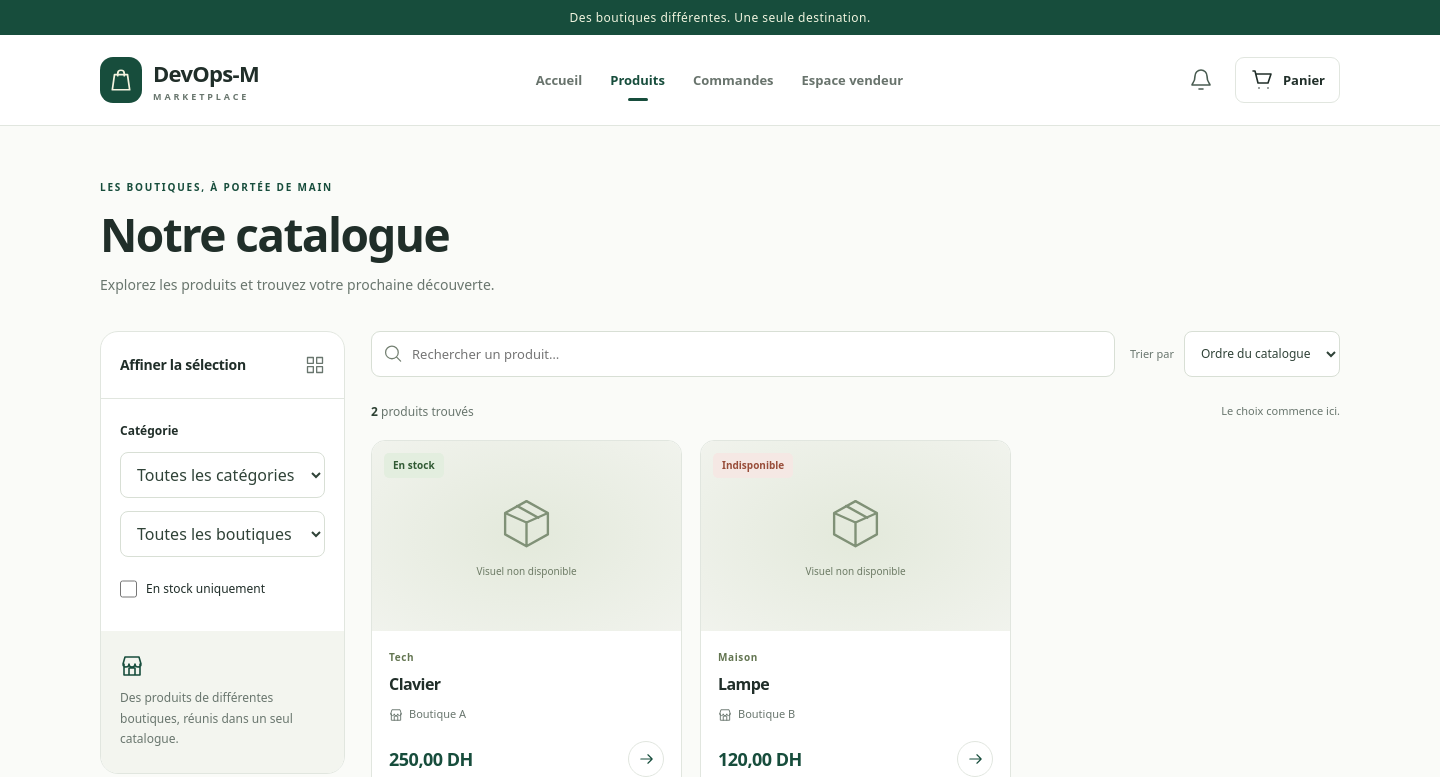
Test: catalogue: API existante, filtre, tri et remise a zero
Expected: the heading "Clavier" is shown, [389, 673, 440, 695]
Select "Prix croissant" in the dropdown named "Trier les produits" at (1262, 354), box [1184, 331, 1340, 377]
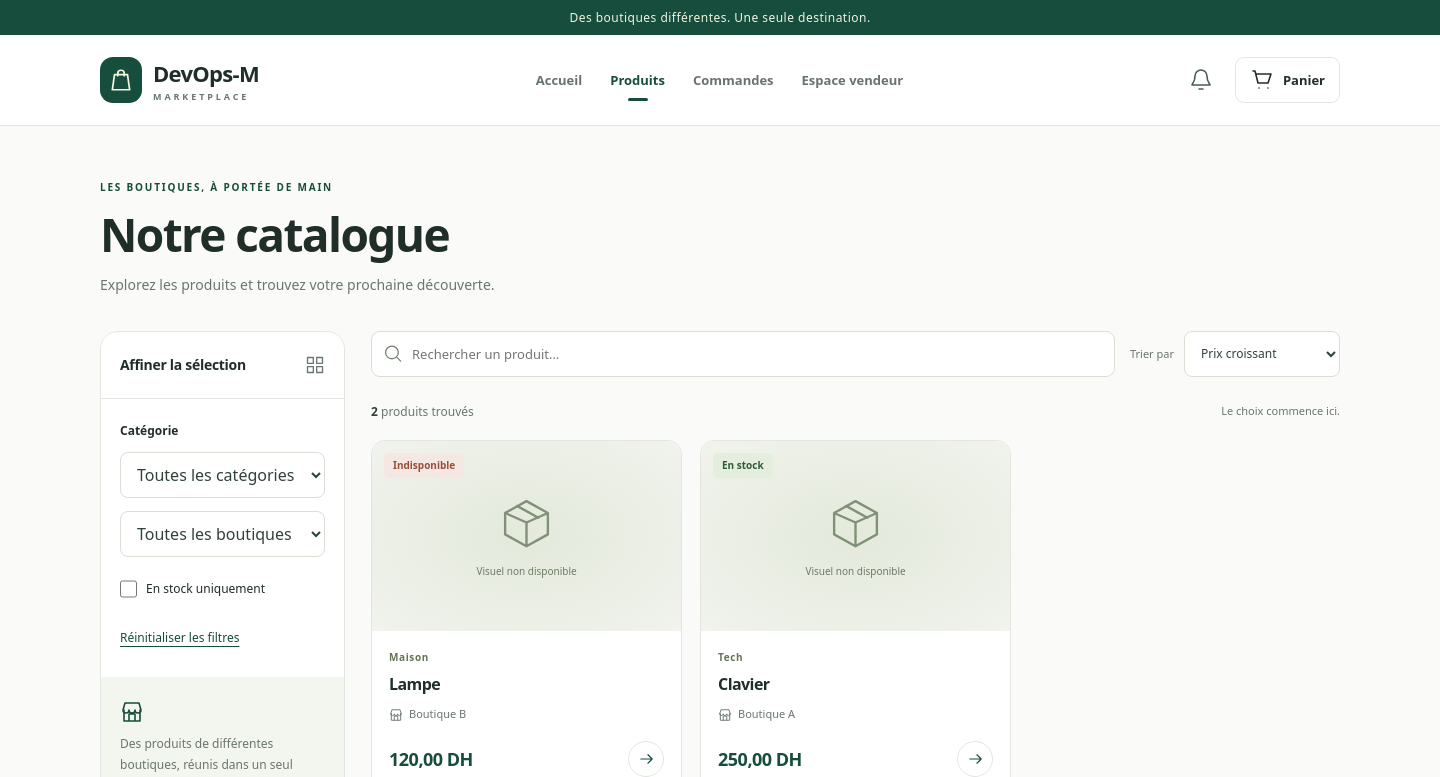
Expected: the heading "Lampe" is shown, [389, 673, 440, 695]
Click the checkbox labelled "En stock uniquement" at (128, 589), box [120, 580, 137, 598]
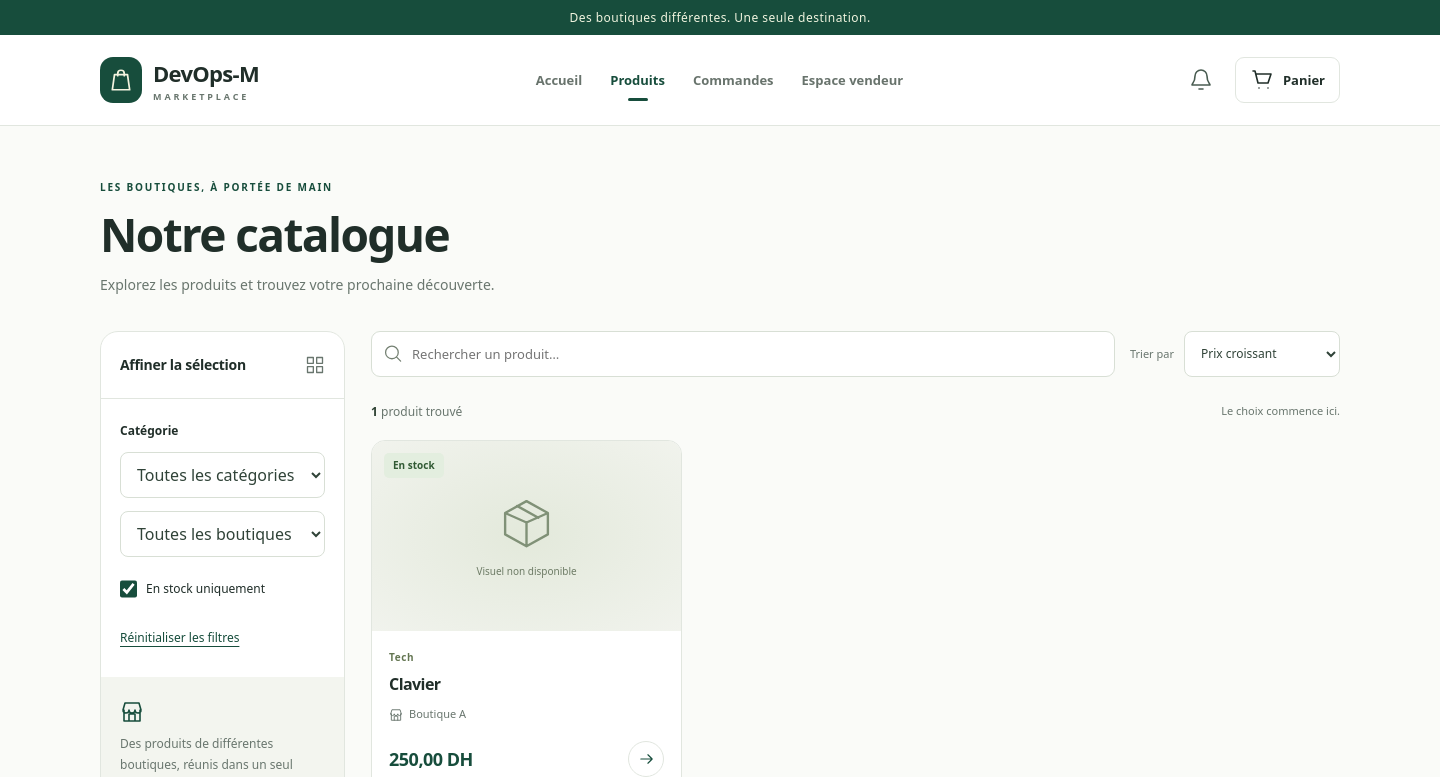
Now the link "Lampe" is gone
Click the button "Réinitialiser les filtres" at (180, 637), box [120, 621, 239, 654]
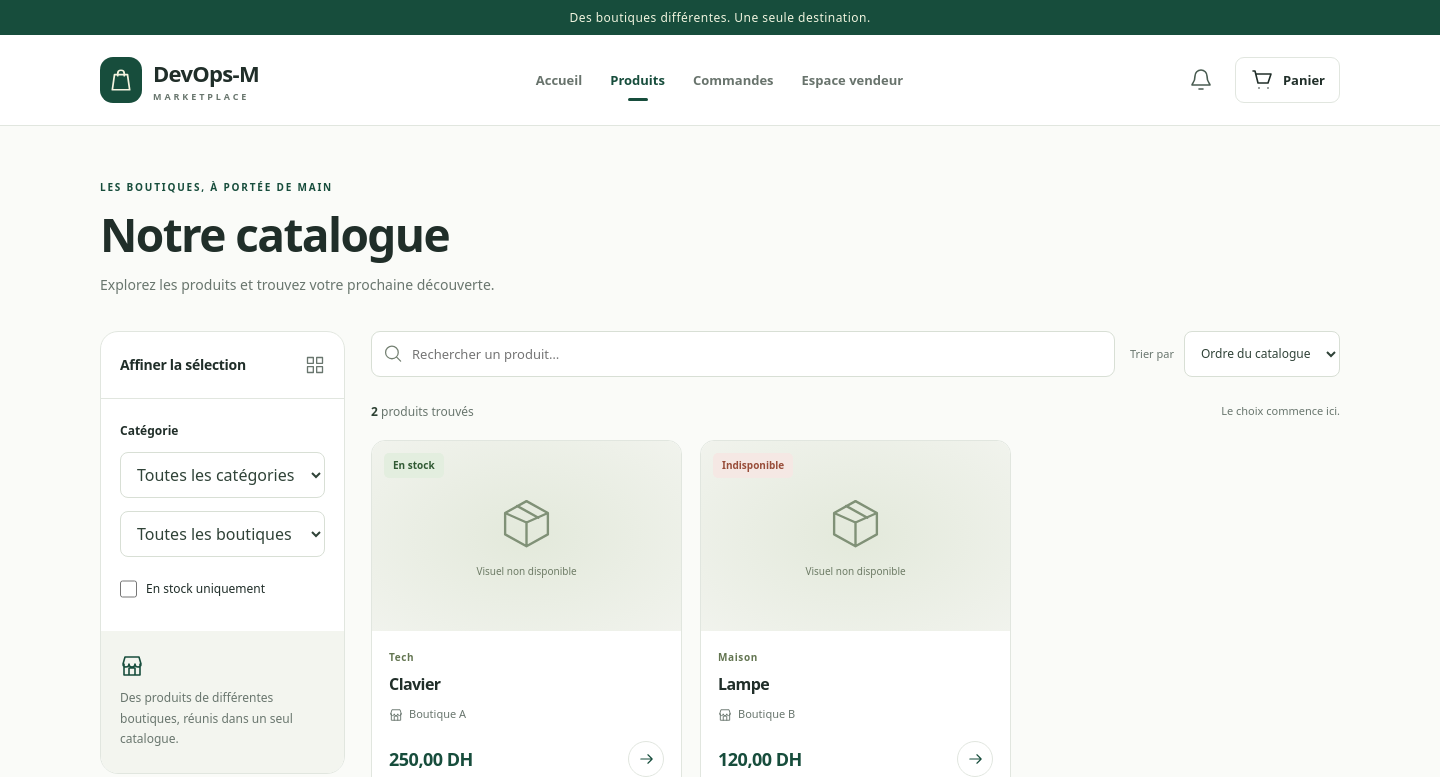
Select "Maison" in the dropdown labelled "Catégorie" at (222, 475), box [120, 452, 325, 498]
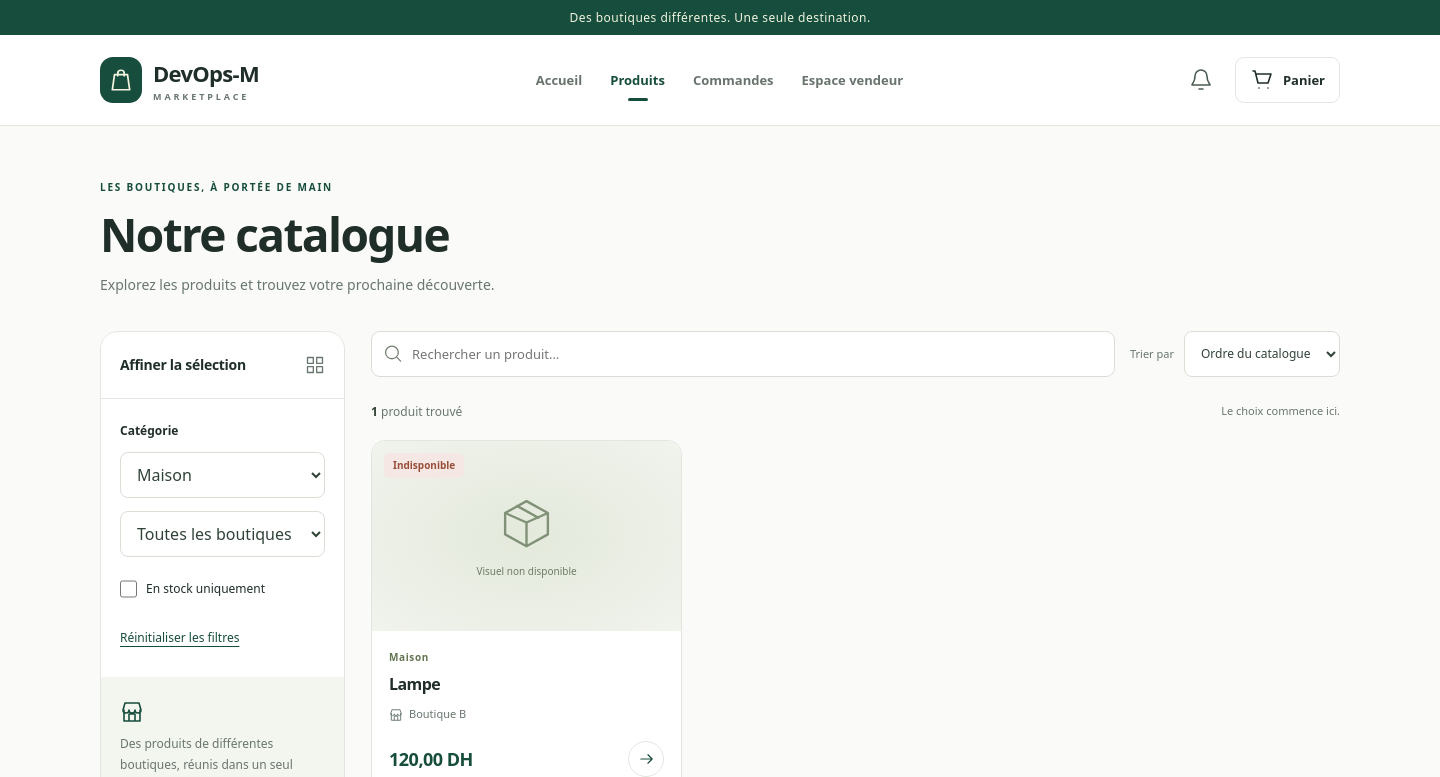
Now the link "Clavier" is gone
